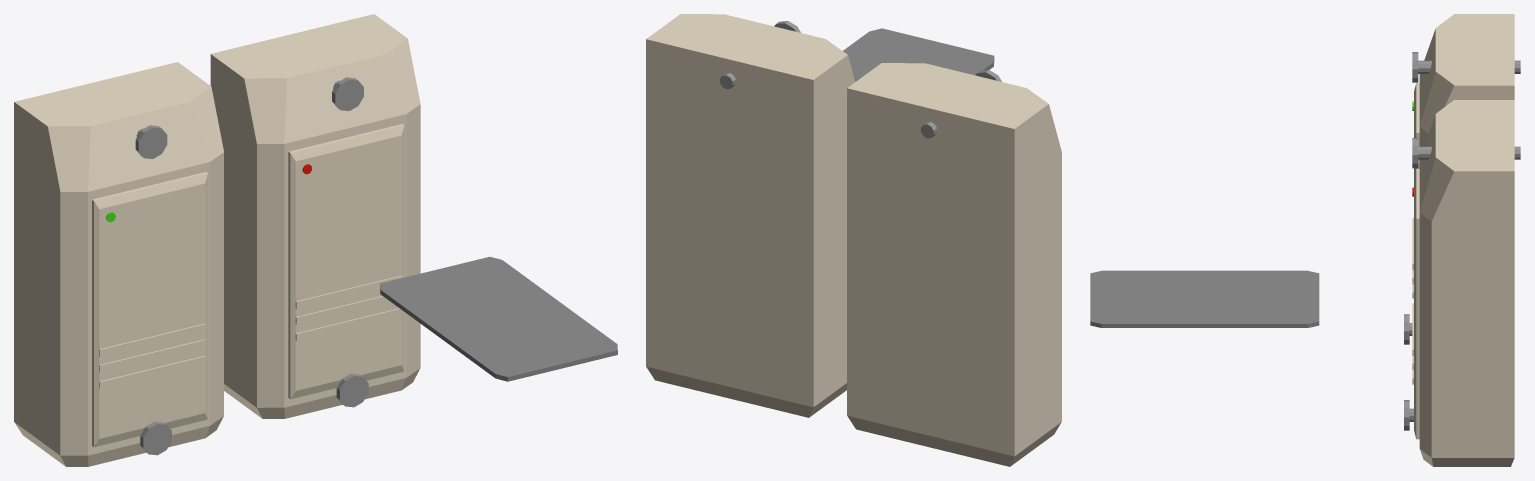
Rendered from Lock.fbx.
3 views of the same model, side by side, from view 1: azimuth 30°, elevation 25°; view 2: azimuth 150°, elevation 25°; view 3: azimuth 270°, elevation 25° (orthographic). The views are drawn at different scales.
Visible parts, largest first — view 1: Cube.002, Cube, Cube.001, Cylinder.005, Cylinder.001, Cylinder.002, Cylinder.004; view 2: Cube.002, Cube, Cube.001; view 3: Cube, Cube.001, Cube.002, Cylinder.005, Cylinder.001.
Part boxes in pixels (bbox=[...]): Cube.002: bbox=[14, 62, 223, 466]; Cube: bbox=[210, 14, 420, 418]; Cube.001: bbox=[380, 256, 617, 381]; Cylinder.005: bbox=[135, 125, 167, 158]; Cylinder.001: bbox=[332, 77, 363, 110]; Cylinder.002: bbox=[336, 373, 368, 407]; Cylinder.004: bbox=[140, 421, 171, 455]; Cube.002: bbox=[847, 63, 1061, 466]; Cube: bbox=[646, 14, 854, 417]; Cube.001: bbox=[843, 28, 994, 81]; Cube: bbox=[1412, 100, 1514, 466]; Cube.001: bbox=[1090, 270, 1319, 327]; Cube.002: bbox=[1412, 14, 1514, 298]; Cylinder.005: bbox=[1412, 52, 1520, 82]; Cylinder.001: bbox=[1412, 138, 1520, 168].
Bounding box in the file's own units: 478 × 409 × 535.
